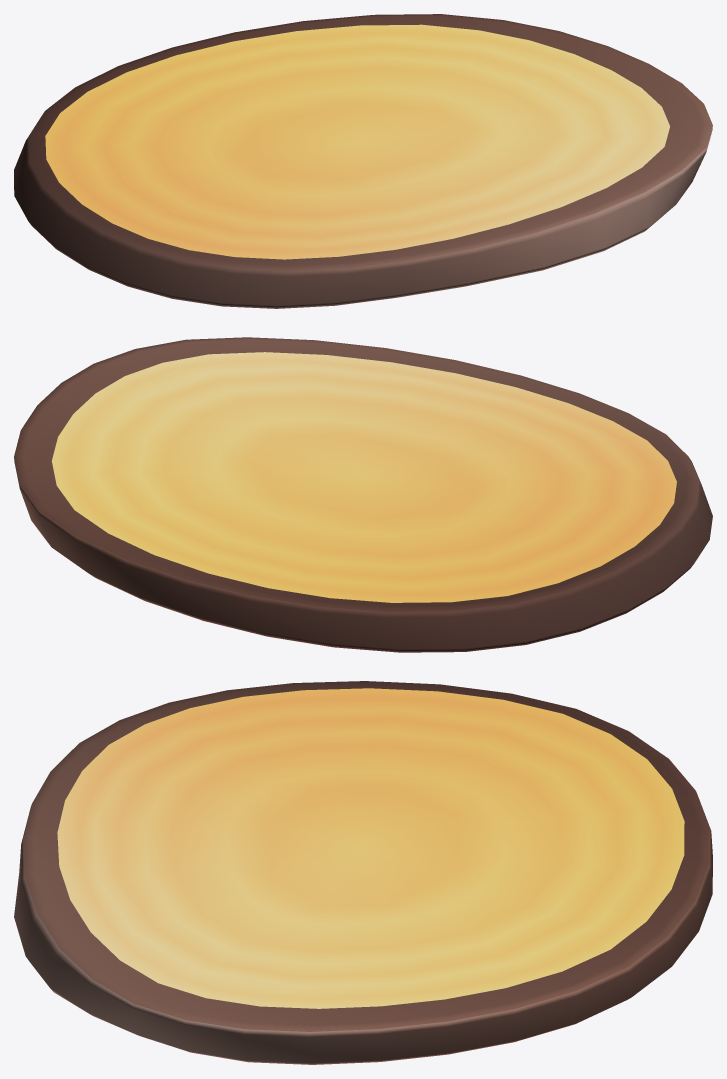
File: board_005.fbx
The picture shows the model from 3 angles, top to bottom: view 1: azimuth 30°, elevation 25°; view 2: azimuth 150°, elevation 25°; view 3: azimuth 270°, elevation 25°; orthographic projection. The views are drawn at different scales.
Visible parts, largest first — view 1: board_005; view 2: board_005; view 3: board_005.
Boxes of the visible parts, box(x1,y1,x2,y2) form: board_005: box(14, 14, 712, 308); board_005: box(14, 337, 712, 652); board_005: box(14, 681, 712, 1064).
Size of the model in its own units: 37.92 by 31.13 by 2.27.
